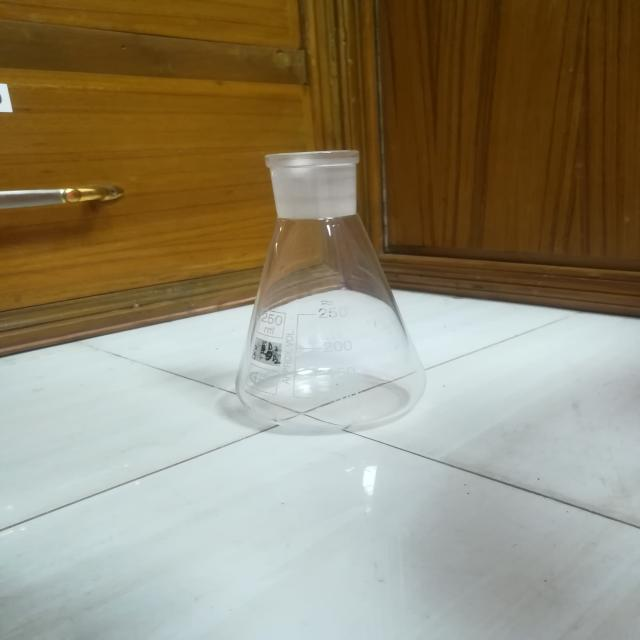Conical_Flask: (157, 102, 490, 458)
